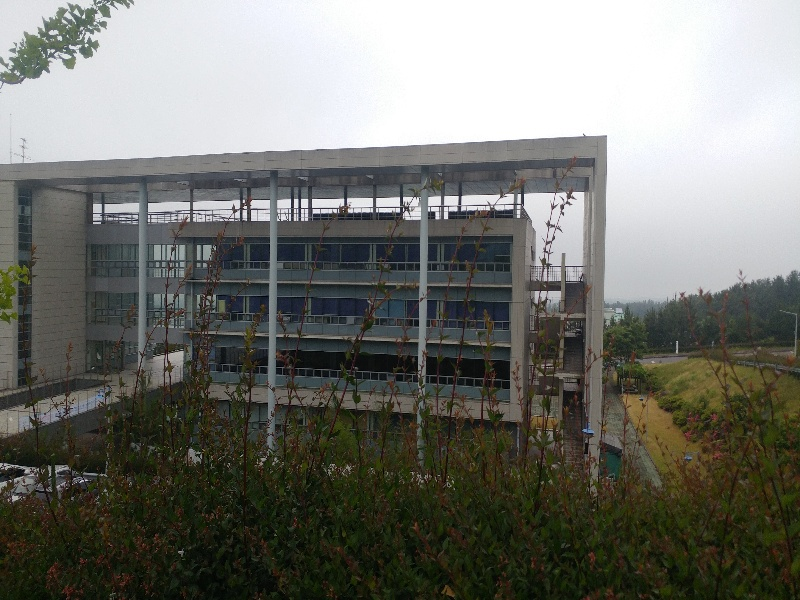Engineering College Building 4: (1, 165, 622, 492), (10, 166, 594, 435)
